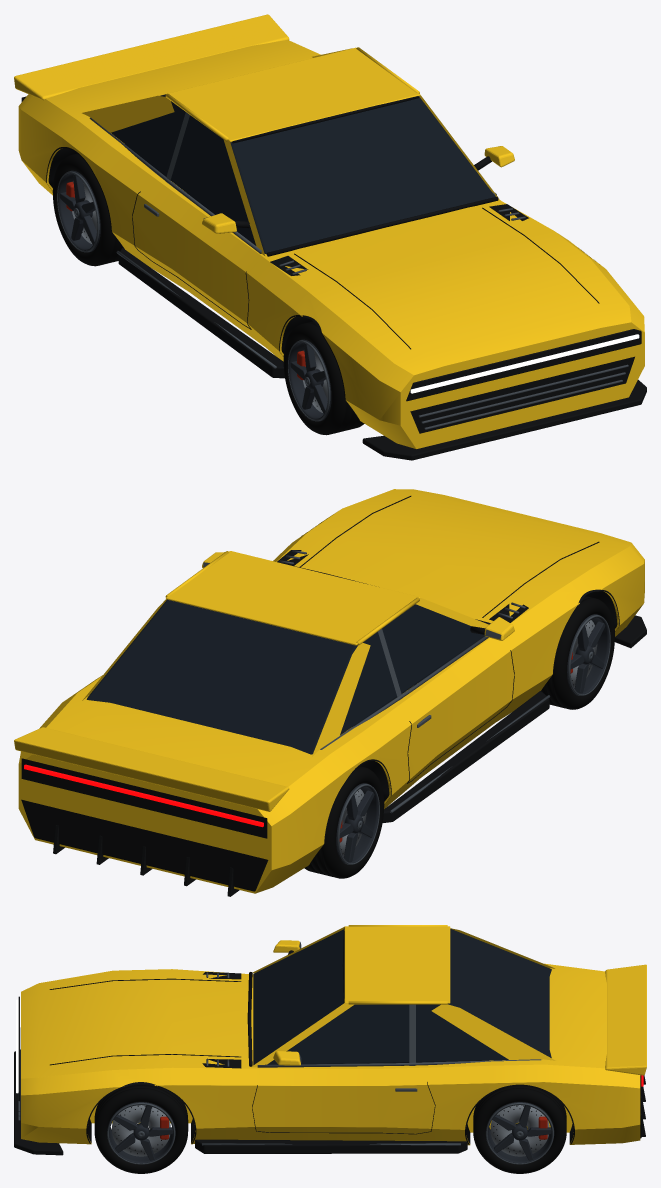
3 views of the same model, one above another, from view 1: azimuth 30°, elevation 25°; view 2: azimuth 150°, elevation 25°; view 3: azimuth 270°, elevation 25° (orthographic). The views are drawn at different scales.
Parts seen in each view (by area): view 1: body, cabin_glazing, roof, spoiler, front_intake, front_splitter, rocker_skirt_l, front_light_recess, tyre_fr, tyre_rr, c_pillar_l, headlights (+8 smaller); view 2: body, cabin_glazing, roof, rear_diffuser, spoiler, rear_light_recess, rocker_skirt_l, tyre_fr, tyre_rr, c_pillar_l, taillight, five_spoke_alloy_fr (+6 smaller); view 3: body, cabin_glazing, roof, spoiler, rocker_skirt_r, tyre_fl, tyre_rl, c_pillar_r, brake_disc_rl, brake_disc_fl, front_splitter, five_spoke_alloy_fl (+12 smaller).
Part boxes in pixels (x1=…): body: x1=18, y1=39, x2=644, y2=449; cabin_glazing: x1=111, y1=94, x2=494, y2=254; roof: x1=166, y1=47, x2=420, y2=142; spoiler: x1=14, y1=14, x2=289, y2=100; front_intake: x1=410, y1=356, x2=634, y2=433; front_splitter: x1=362, y1=379, x2=646, y2=460; rocker_skirt_l: x1=118, y1=248, x2=284, y2=378; front_light_recess: x1=406, y1=329, x2=641, y2=401; tyre_fr: x1=283, y1=321, x2=364, y2=435; tyre_rr: x1=52, y1=153, x2=123, y2=266; c_pillar_l: x1=82, y1=95, x2=174, y2=132; headlights: x1=410, y1=334, x2=639, y2=393; body: x1=18, y1=489, x2=644, y2=893; cabin_glazing: x1=86, y1=599, x2=484, y2=754; roof: x1=166, y1=551, x2=420, y2=645; rear_diffuser: x1=21, y1=799, x2=268, y2=891; spoiler: x1=14, y1=727, x2=289, y2=811; rear_light_recess: x1=21, y1=758, x2=267, y2=838; rocker_skirt_l: x1=382, y1=691, x2=549, y2=822; tyre_fr: x1=541, y1=596, x2=614, y2=709; tyre_rr: x1=304, y1=766, x2=384, y2=878; c_pillar_l: x1=312, y1=643, x2=370, y2=756; taillight: x1=24, y1=764, x2=263, y2=827; five_spoke_alloy_fr: x1=570, y1=621, x2=605, y2=693; body: x1=21, y1=963, x2=640, y2=1145; cabin_glazing: x1=253, y1=929, x2=551, y2=1065; roof: x1=344, y1=926, x2=450, y2=1003; spoiler: x1=605, y1=964, x2=646, y2=1075; rocker_skirt_r: x1=195, y1=1139, x2=467, y2=1153; tyre_fl: x1=94, y1=1083, x2=188, y2=1173; tyre_rl: x1=473, y1=1085, x2=566, y2=1173; c_pillar_r: x1=431, y1=1004, x2=555, y2=1060; brake_disc_rl: x1=490, y1=1105, x2=549, y2=1156; brake_disc_fl: x1=112, y1=1105, x2=170, y2=1156; front_splitter: x1=14, y1=1049, x2=63, y2=1155; five_spoke_alloy_fl: x1=114, y1=1105, x2=172, y2=1160.
Size of the model in its own units: 2.07 by 1.26 by 4.6.
